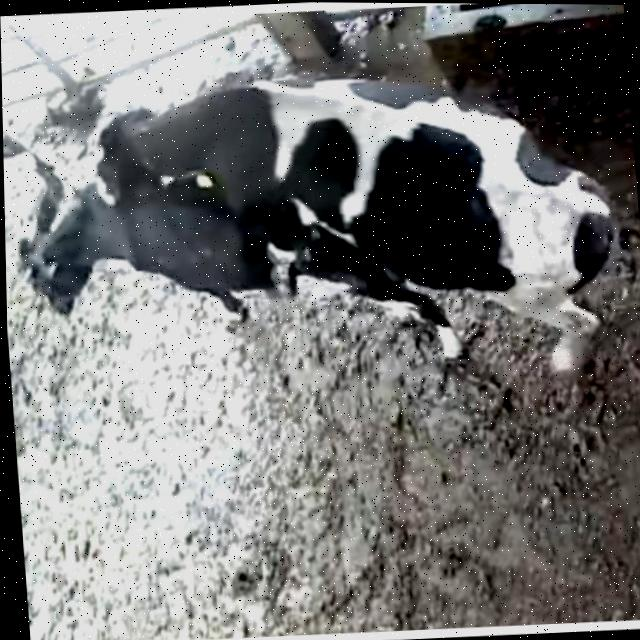ride: (79, 42, 640, 416)
